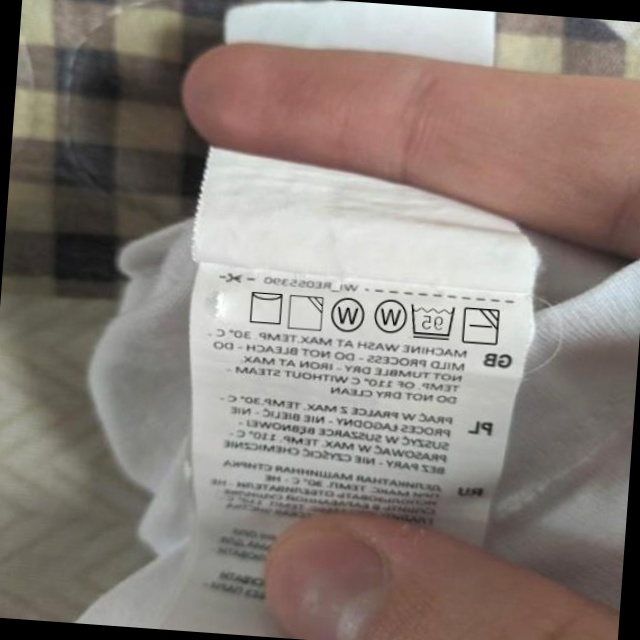95C: (407, 300, 458, 342)
dry_flat_in_shade: (461, 303, 502, 348)
line_dry: (244, 287, 286, 327)
shade_dry: (285, 292, 326, 333)
wet_clean: (328, 295, 367, 336), (370, 294, 408, 336)
